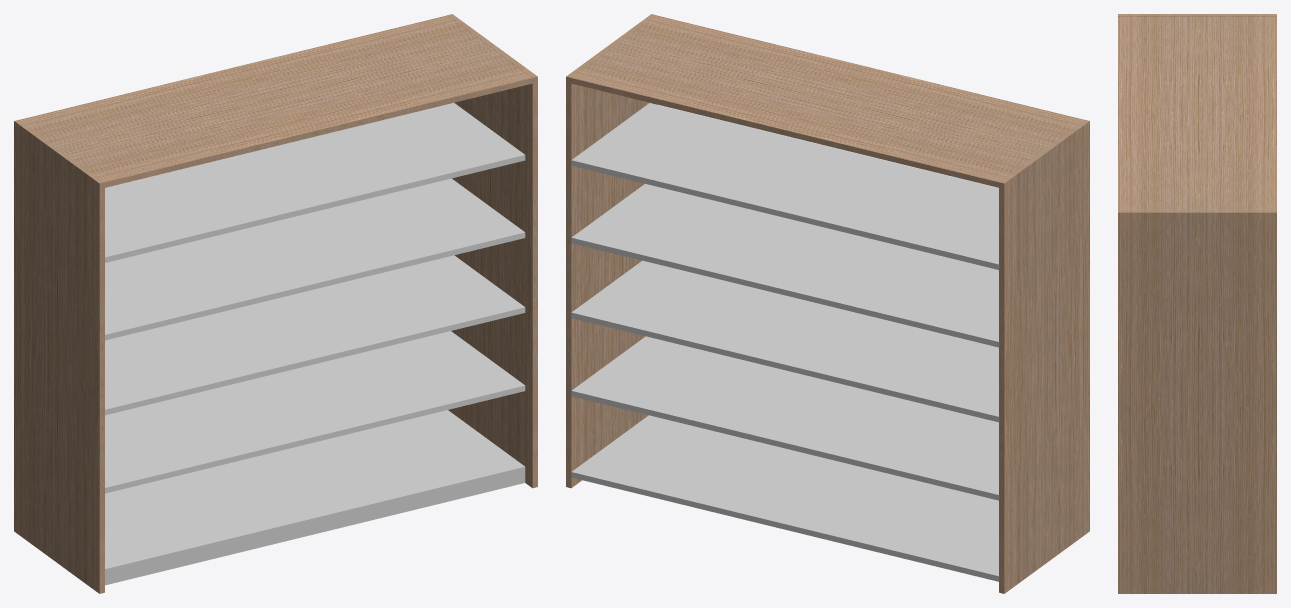
File: Books cabinet 1.FBX
The picture shows the model from 3 angles, left to right: view 1: azimuth 30°, elevation 25°; view 2: azimuth 150°, elevation 25°; view 3: azimuth 270°, elevation 25°; orthographic projection. The views are drawn at different scales.
Visible parts, largest first — view 1: books cabinet; view 2: books cabinet; view 3: books cabinet.
Boxes of the visible parts, x1,y1,x2,y2 form: books cabinet: (14, 14, 537, 593); books cabinet: (566, 14, 1089, 593); books cabinet: (1118, 14, 1276, 593).
Bounding box in the file's own units: 85.4 × 28.85 × 76.41.
Materials: 2 (1 with a texture image).
